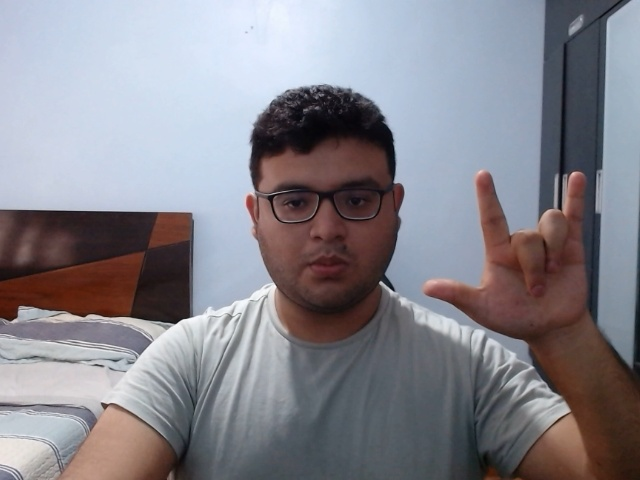I love you: (419, 164, 599, 365)
